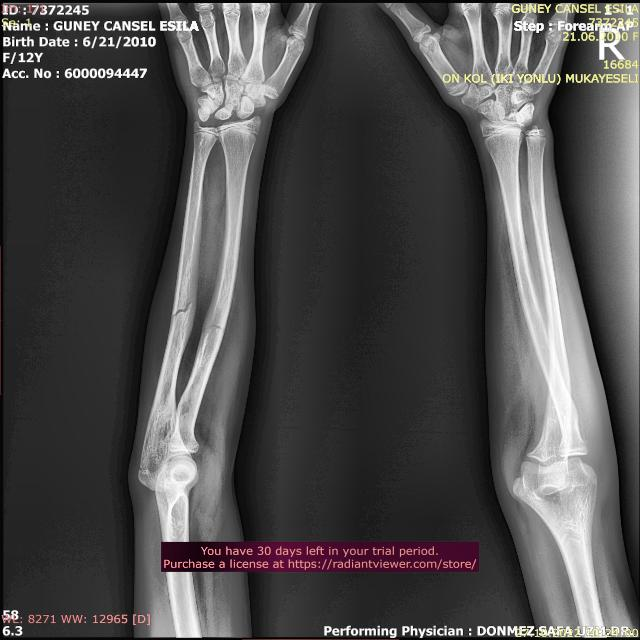Fracture: (166, 299, 198, 318), (200, 319, 227, 336)
